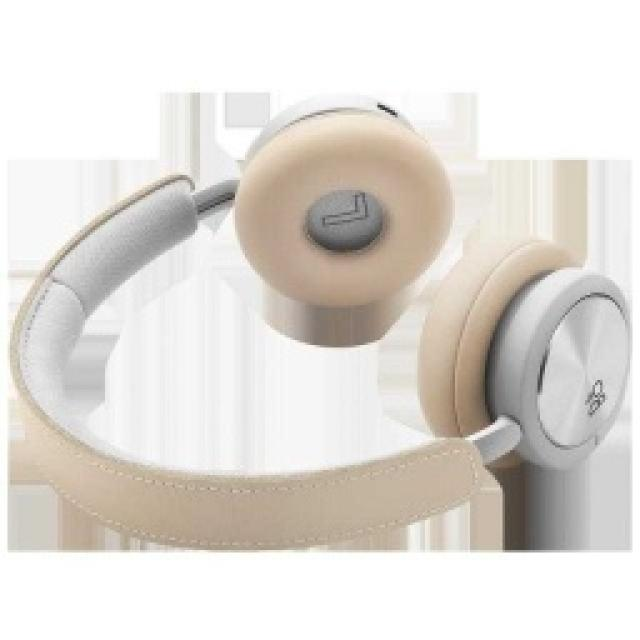headphones: (8, 90, 630, 548)
